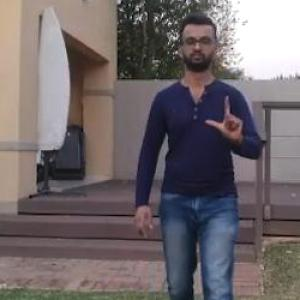land_hand: (197, 82, 248, 148)
